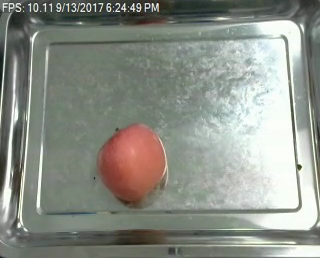Apple: (94, 121, 168, 203)
